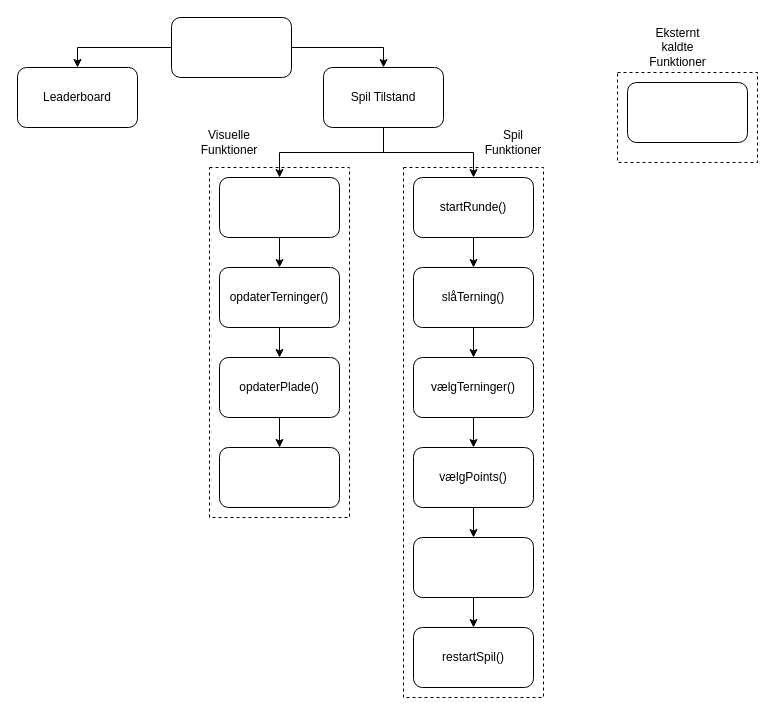
Some shapes in this 775 by 715 pixel diagram are drawn without their labels. Each missing label, with the centre of its shape:
Main Menu: the point at 231,47
mousePressed(): the point at 687,112
opdaterTimer(): the point at 279,477
opsætSkærm(): the point at 279,207
vælgVinder(): the point at 473,567
